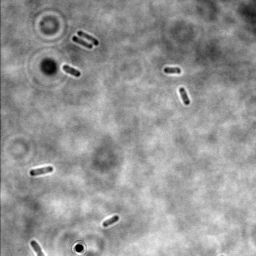Rod: (76, 29, 99, 47), (71, 34, 93, 51), (28, 164, 54, 178), (61, 63, 81, 79), (177, 86, 191, 106), (101, 214, 119, 229), (162, 65, 183, 76)
